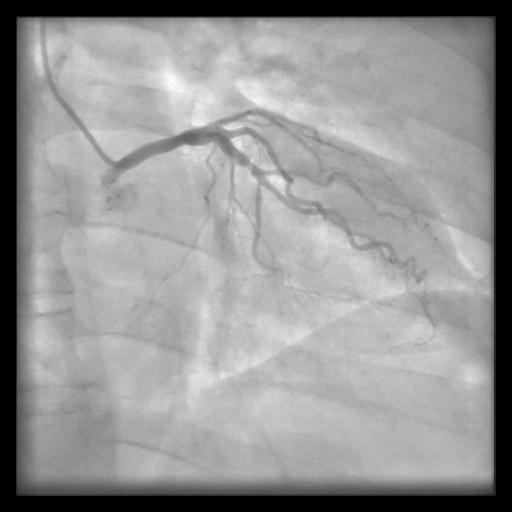Stenosis: (245, 156, 256, 173)
